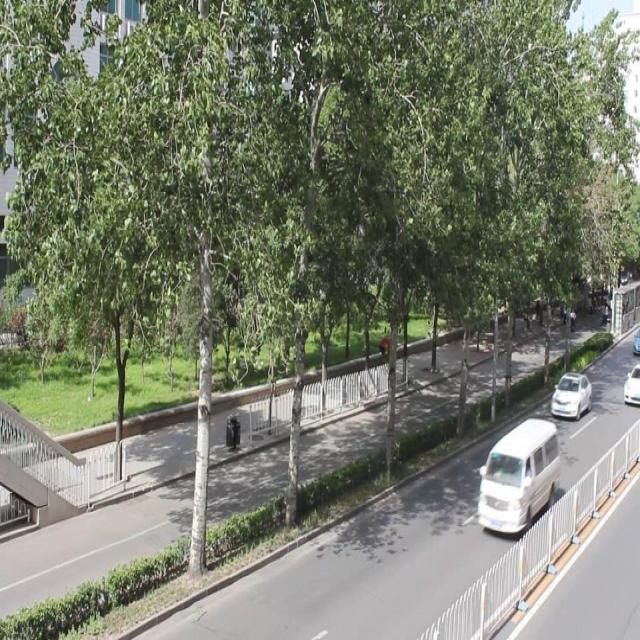car: (551, 368, 590, 419)
truck: (478, 414, 557, 530)
